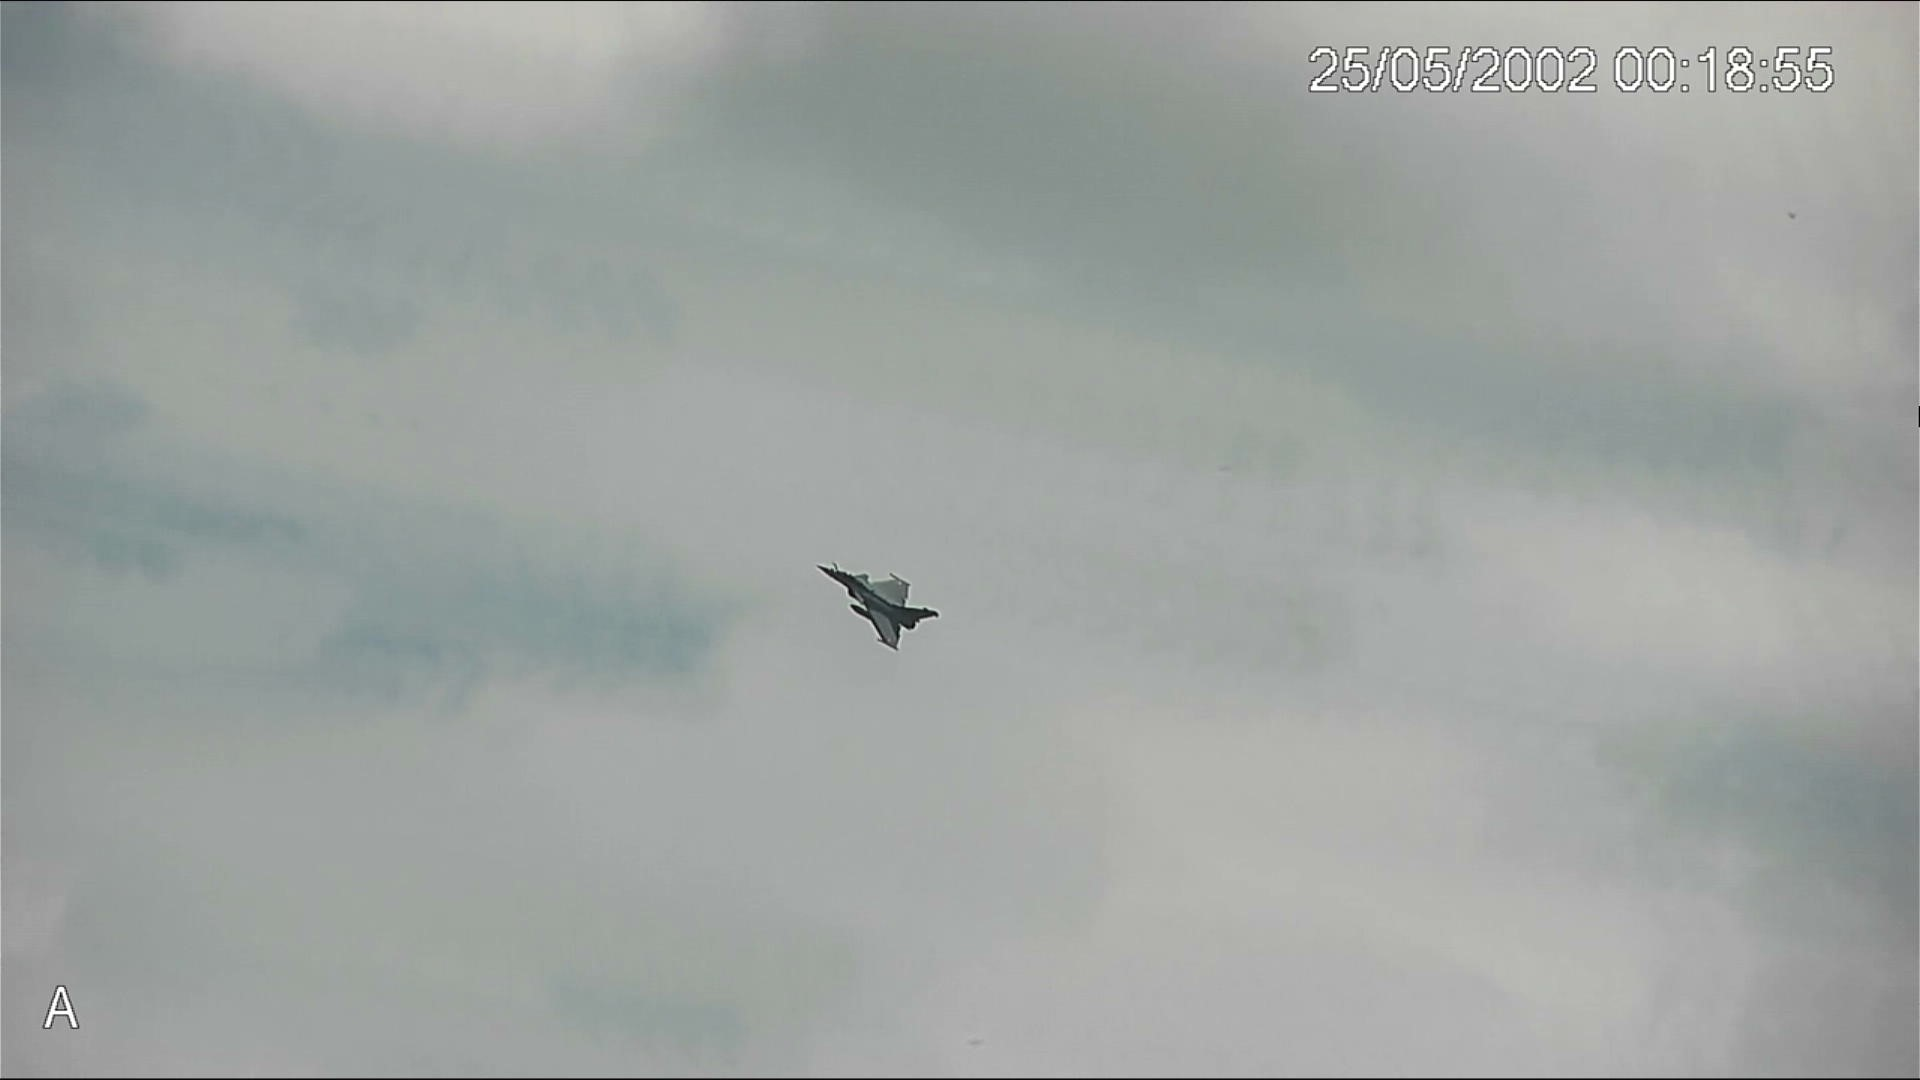SU_30: (814, 554, 951, 654)
